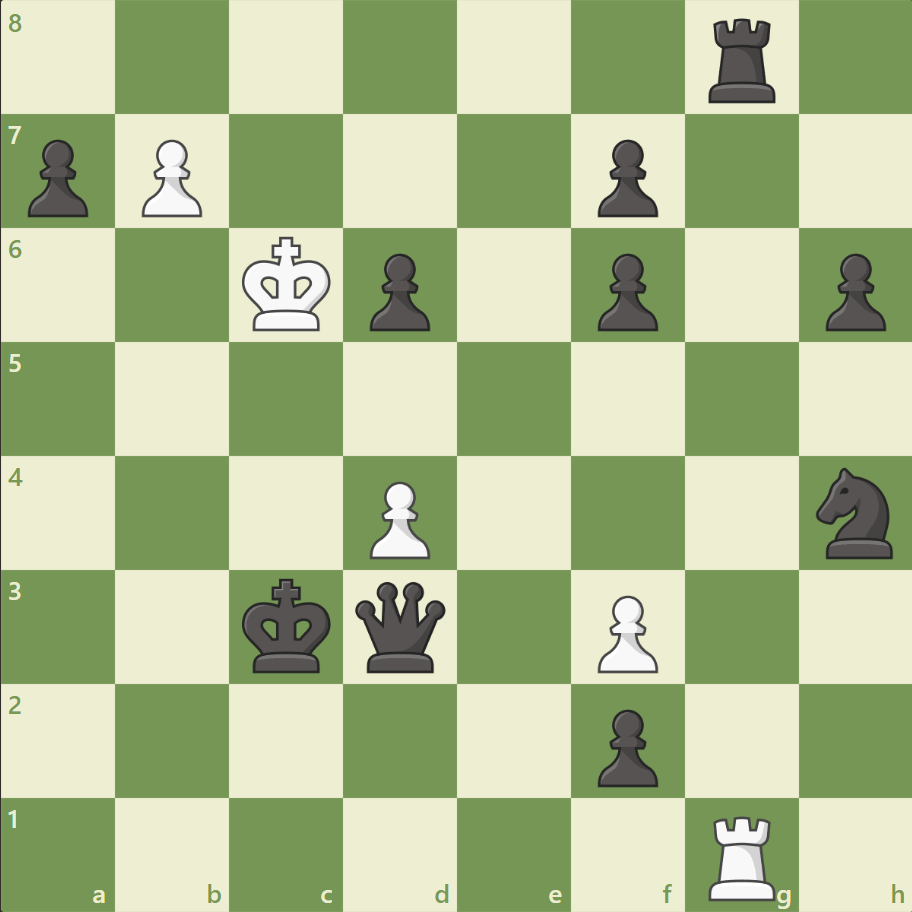K: (238, 231, 338, 339)
P: (133, 132, 208, 223), (361, 473, 435, 564), (588, 586, 662, 677)
R: (700, 806, 783, 904)
k: (238, 571, 338, 679)
n: (806, 461, 903, 564)
p: (20, 132, 95, 223), (588, 132, 662, 223), (361, 246, 435, 337), (588, 246, 662, 337), (815, 246, 889, 337), (588, 700, 662, 791)
q: (351, 576, 450, 676)
r: (700, 12, 783, 109)
